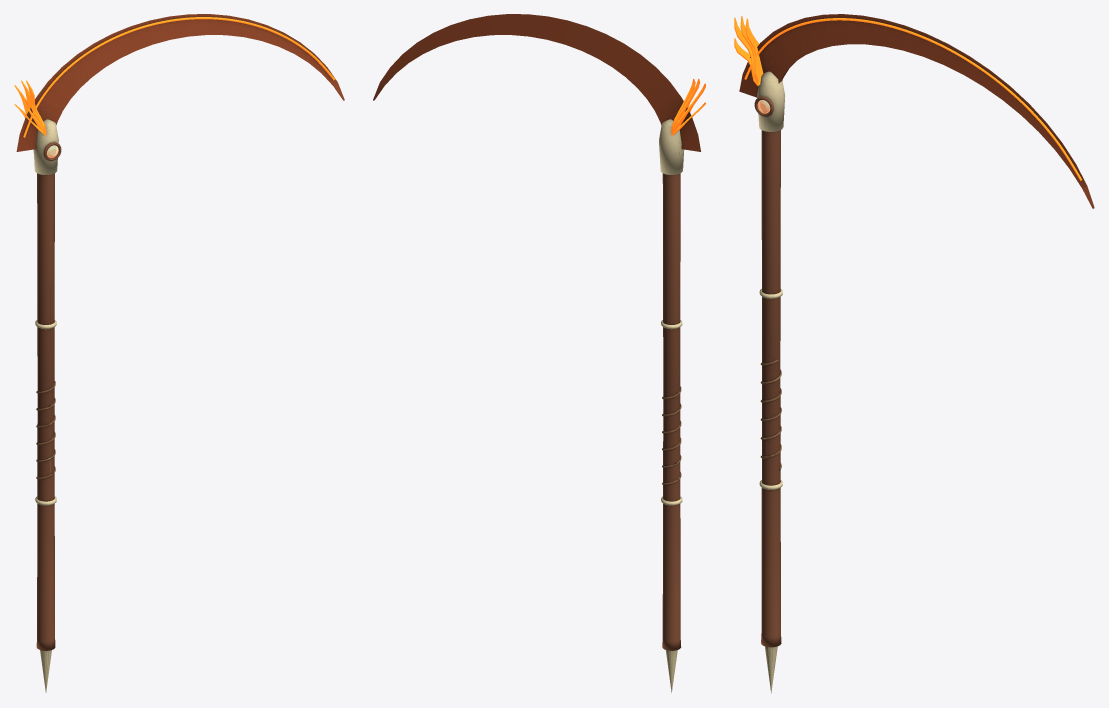
File: arma_lend_foice_fogo.glb
3 views of the same model, side by side, from view 1: azimuth 30°, elevation 25°; view 2: azimuth 150°, elevation 25°; view 3: azimuth 330°, elevation 25° (orthographic). The views are drawn at different scales.
Visible parts, largest first — view 1: arma_lend_foice_fogo, gume; view 2: arma_lend_foice_fogo; view 3: arma_lend_foice_fogo, gume.
Part boxes in pixels (left/top/right/bottom): arma_lend_foice_fogo: left=16, top=14, right=344, bottom=692; gume: left=23, top=17, right=335, bottom=137; arma_lend_foice_fogo: left=373, top=14, right=700, bottom=692; arma_lend_foice_fogo: left=739, top=14, right=1094, bottom=692; gume: left=744, top=18, right=1082, bottom=180.
Bounding box in the file's own units: 1.18 × 2.2 × 0.0924.
Materials: 7 (1 with a texture image).
